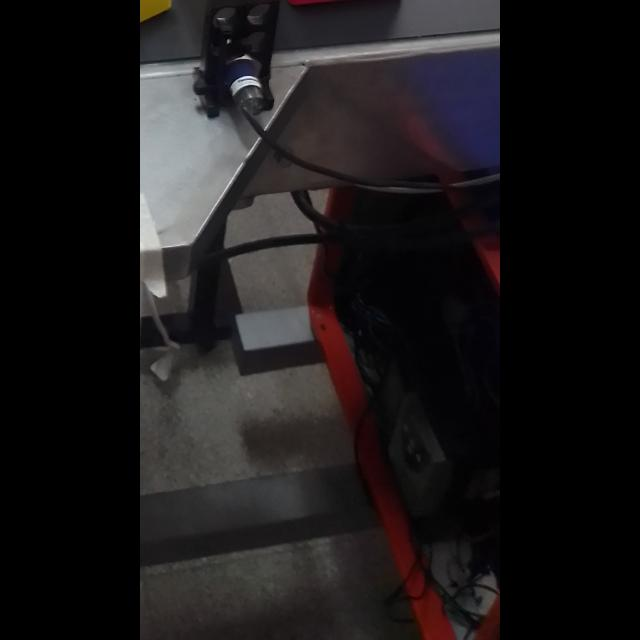redBox: (252, 1, 426, 20)
yellowBox: (140, 0, 186, 66)
